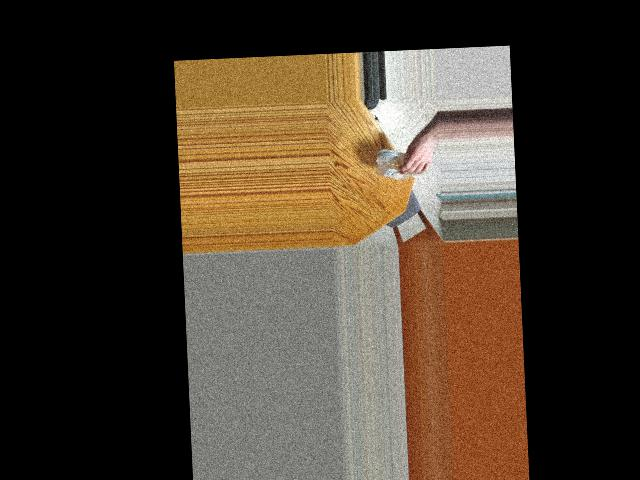cheese: (383, 143, 429, 182)
